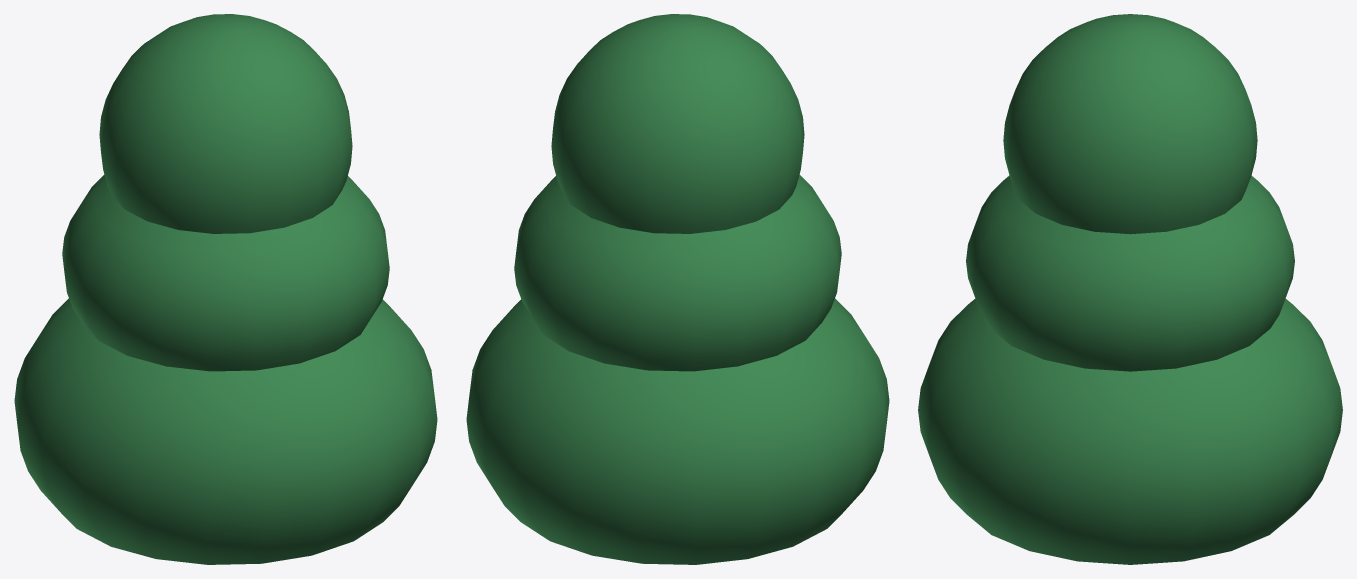
The model's file is Tree.fbx.
3 views of the same model, side by side, from view 1: azimuth 30°, elevation 25°; view 2: azimuth 150°, elevation 25°; view 3: azimuth 270°, elevation 25° (orthographic).
Parts seen in each view (by area): view 1: Tree; view 2: Tree; view 3: Tree.
Boxes of the visible parts, left/top/right/bottom form: Tree: left=14, top=14, right=437, bottom=564; Tree: left=466, top=14, right=889, bottom=564; Tree: left=918, top=14, right=1342, bottom=564.
Size of the model in its own units: 22.06 by 26.72 by 22.06.
